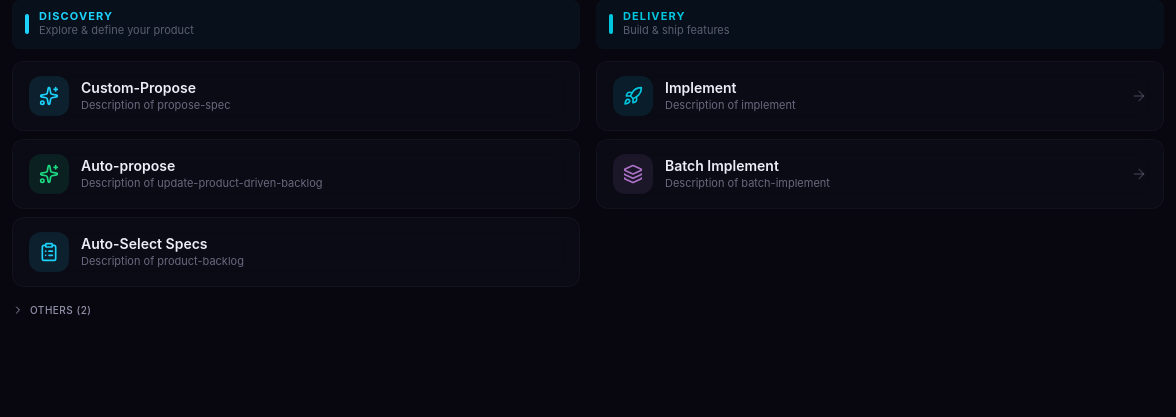
Test: Others section › clicking Others header expands the section
Step 1. Click the button "Others (2)" → coordinates (52, 310), box [12,303,92,318]
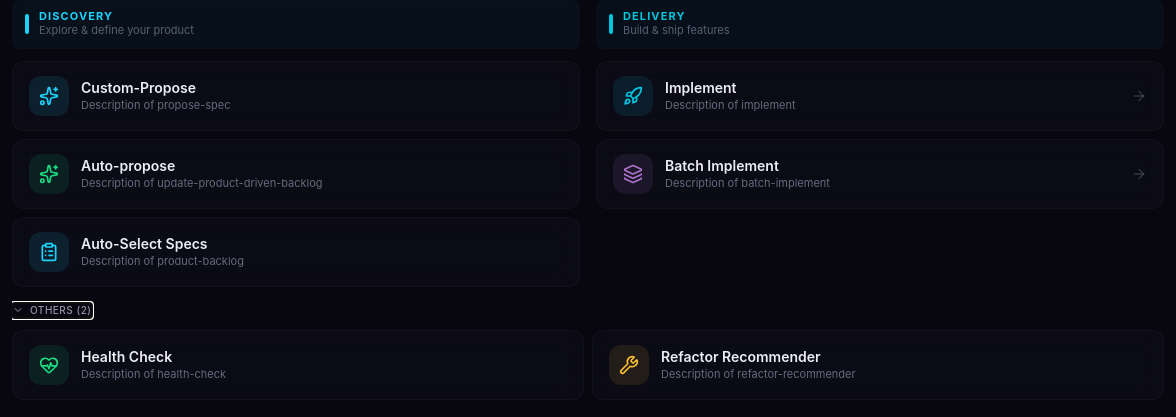
expect the text "Refactor Recommender" is shown: met, box [661,348,821,365]
expect the text "Health Check" is shown: met, box [81,348,172,365]
